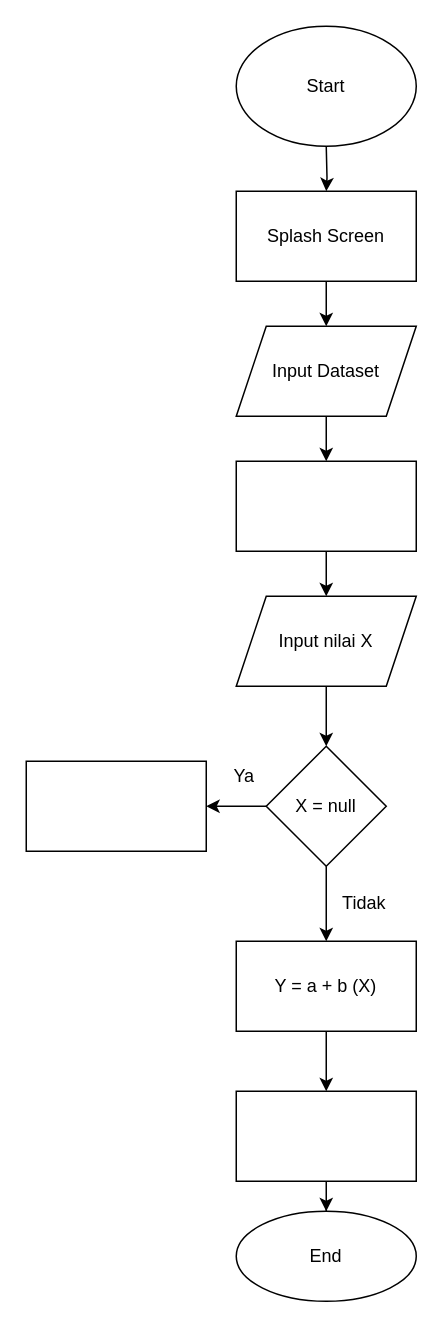
This 443x1328 diagram has some shape labels left out. Here are the shapes that lost their labels. From the top down, the centre of each, then its label:
At (x=325, y=505): "Menampilkan persebaran data pada Diagram".
At (x=115, y=805): "Allert".
At (x=325, y=1135): "Menampilkan hasil".
